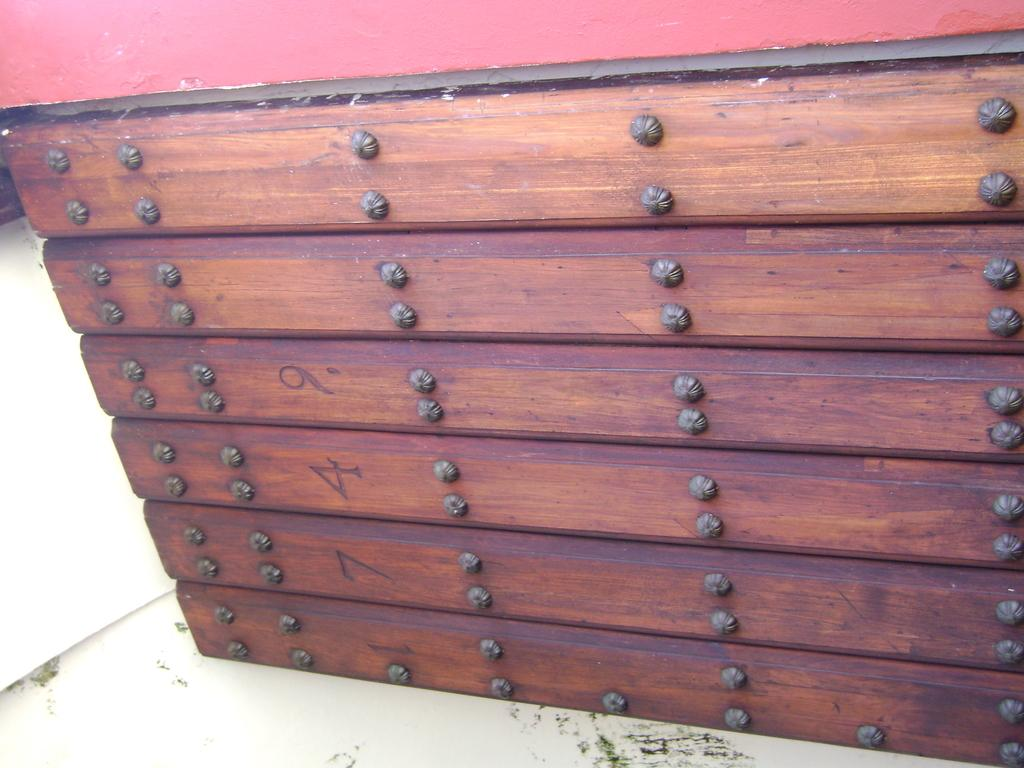cabinet_door: (91, 337, 1017, 461), (200, 592, 1010, 730), (137, 432, 1024, 549), (62, 246, 1024, 344), (152, 502, 1024, 598), (34, 140, 1024, 214)
